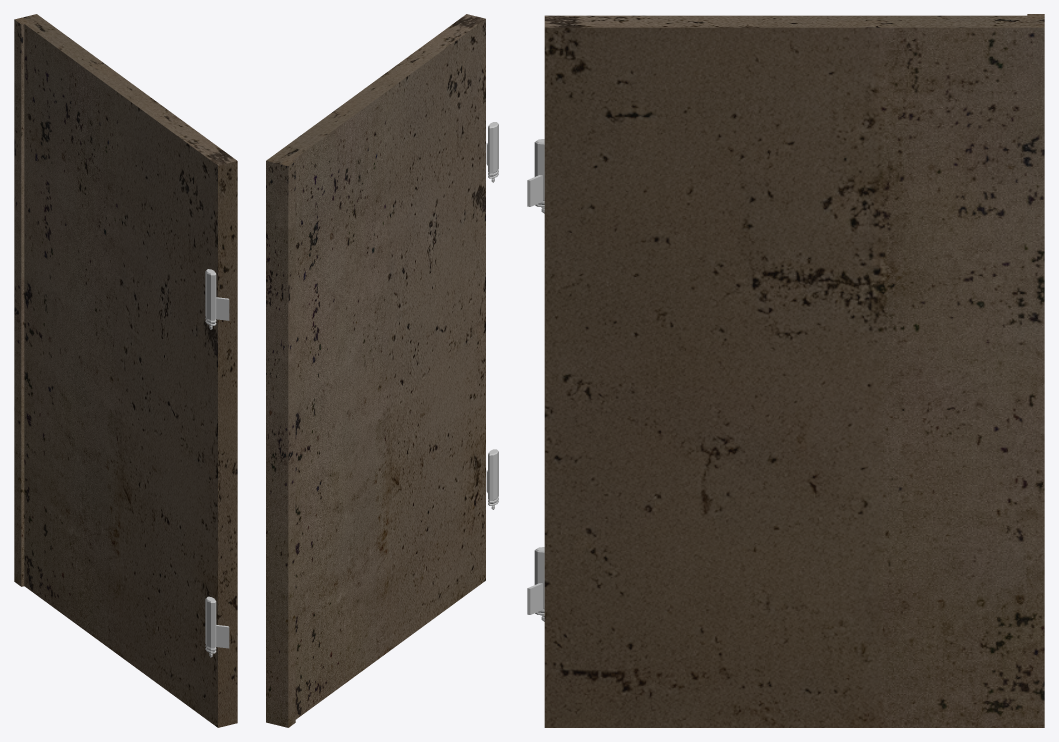
The model's file is SM_IronDoor01D.fbx.
The picture shows the model from 3 angles, left to right: view 1: azimuth 30°, elevation 25°; view 2: azimuth 150°, elevation 25°; view 3: azimuth 270°, elevation 25°; orthographic projection. The views are drawn at different scales.
Visible parts, largest first — view 1: SM_IronDoor01D; view 2: SM_IronDoor01D; view 3: SM_IronDoor01D.
Part boxes in pixels (x1=…): SM_IronDoor01D: x1=14, y1=14, x2=237, y2=727; SM_IronDoor01D: x1=266, y1=14, x2=498, y2=727; SM_IronDoor01D: x1=527, y1=14, x2=1044, y2=727.
Bounding box in the file's own units: 7.87 × 92.44 × 138.
